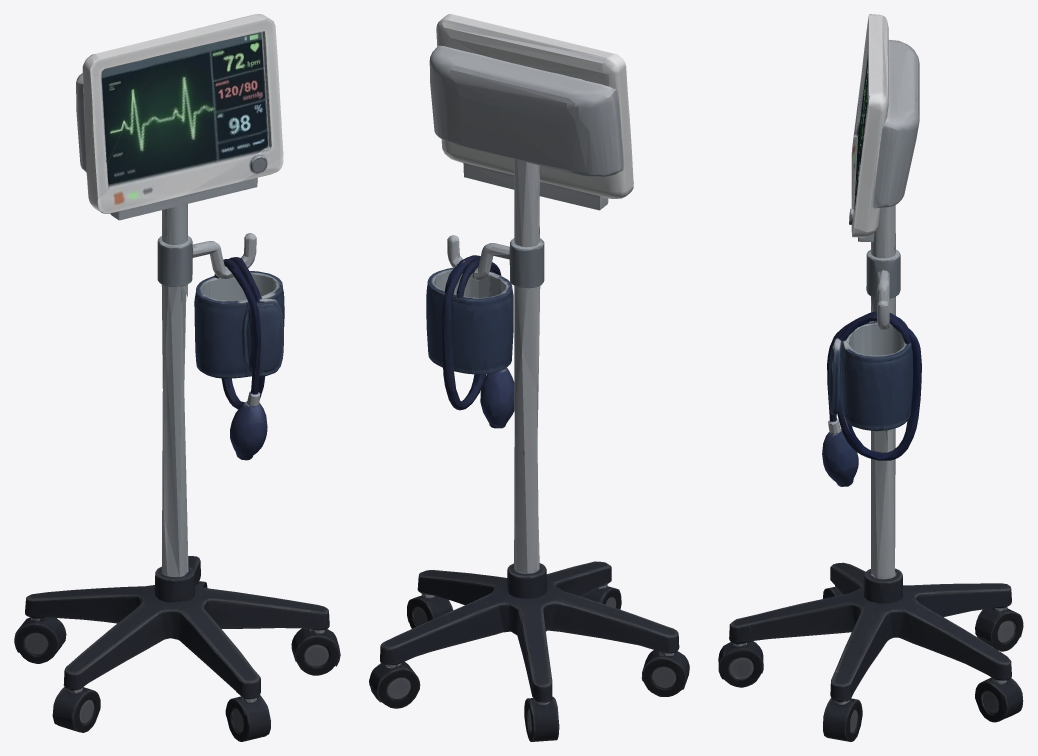
Rendered from monitor.glb.
3 renders of one model, left to right at view 1: azimuth 30°, elevation 25°; view 2: azimuth 150°, elevation 25°; view 3: azimuth 270°, elevation 25°, orthographic. The views are drawn at different scales.
Bounding box in the file's own units: 0.8709 × 1.9 × 0.8366.
1 material, 1 textured.
